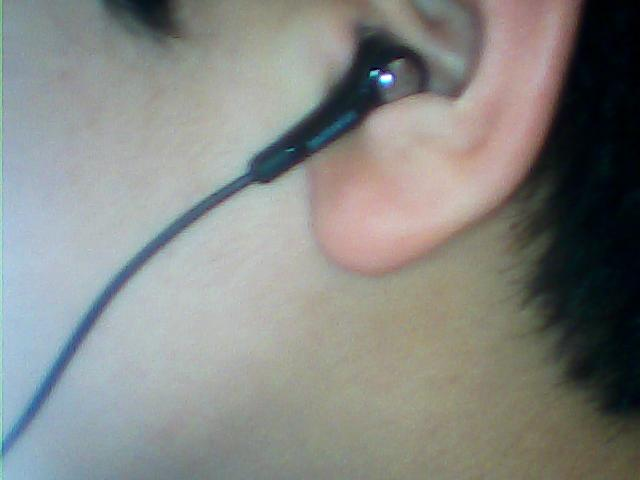earphone: (310, 1, 583, 275)
